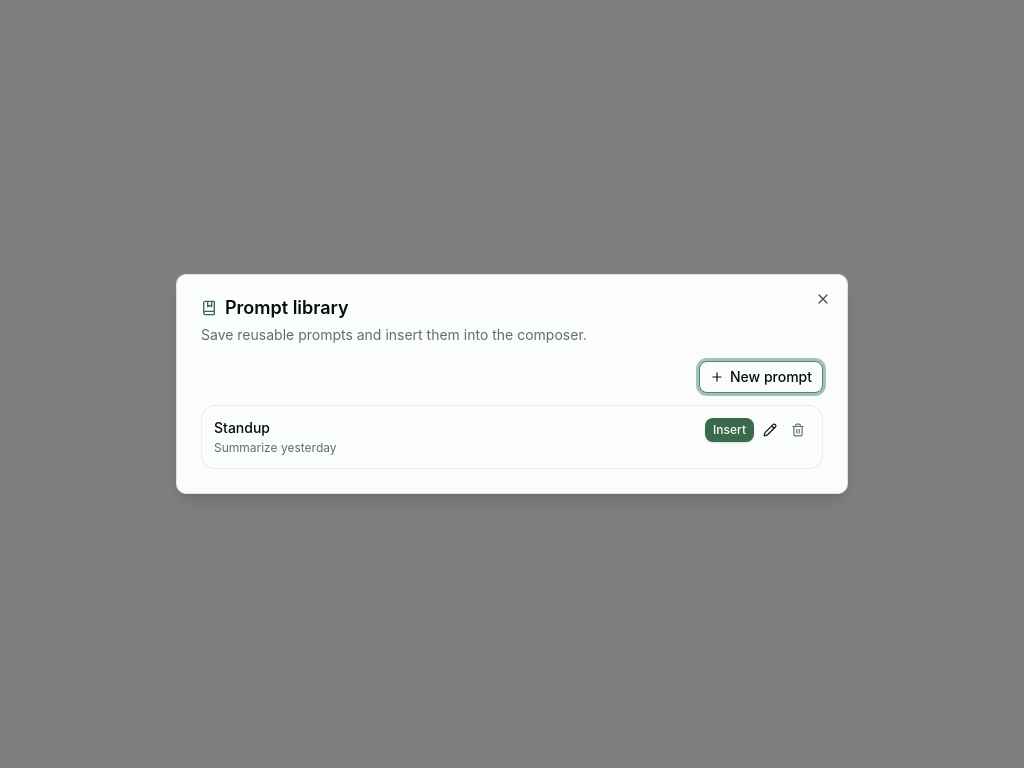
Test: PromptLibraryDialog › creates a prompt with title and body
Expected: the text "Standup" is shown, [214,419,270,436]
Click the button "New prompt" at (761, 377), box [699,361,823,393]
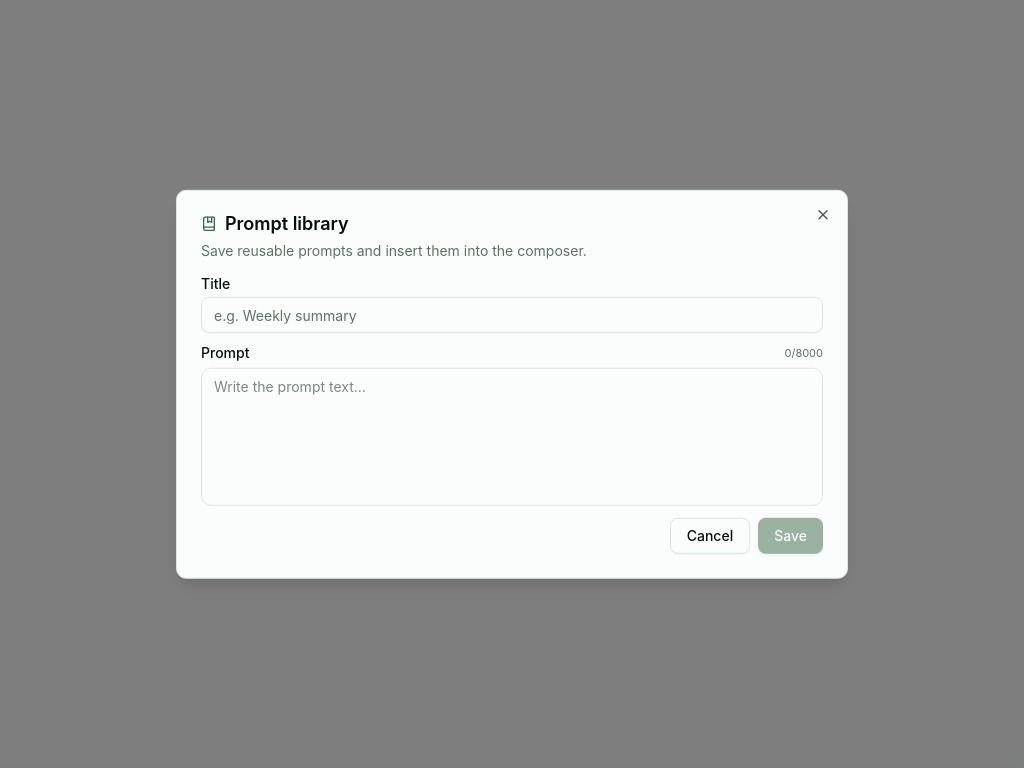
Type "Daily recap" into the field labelled "Title" at (512, 315), box [201,297,823,333]
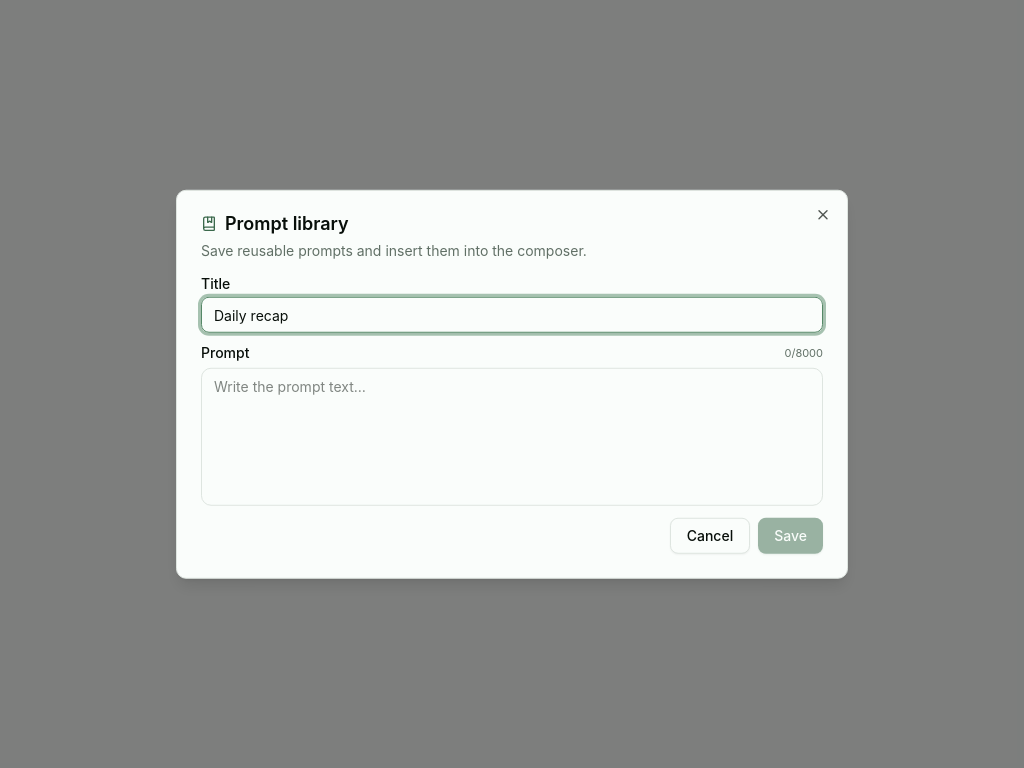
Type "Recap today's work" into the text box labelled "Prompt" at (512, 436), box [201,367,823,505]
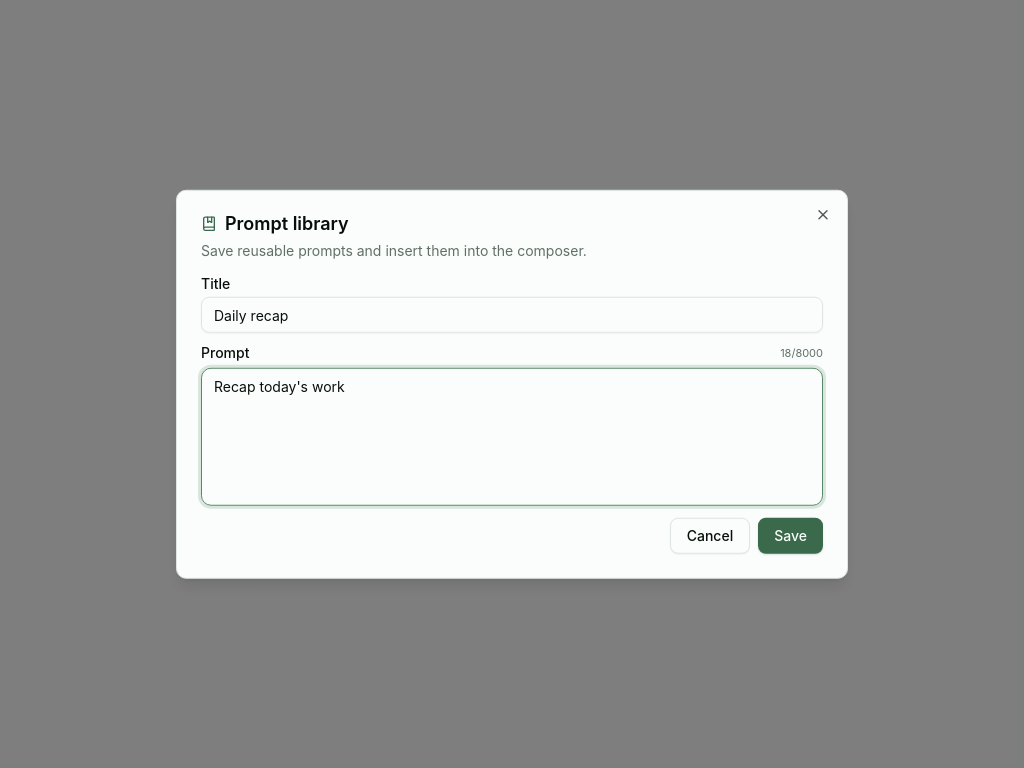
Click the button "Save" at (791, 535), box [758,517,823,553]
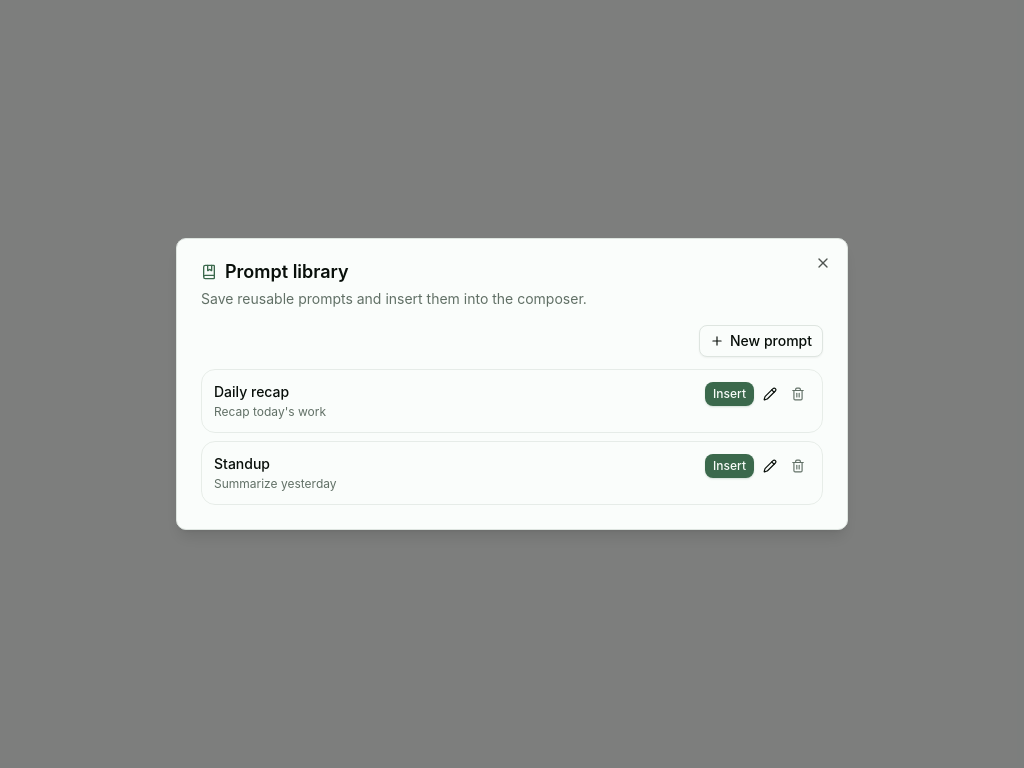
Expected: the text "Daily recap" is shown, [214,383,289,400]
